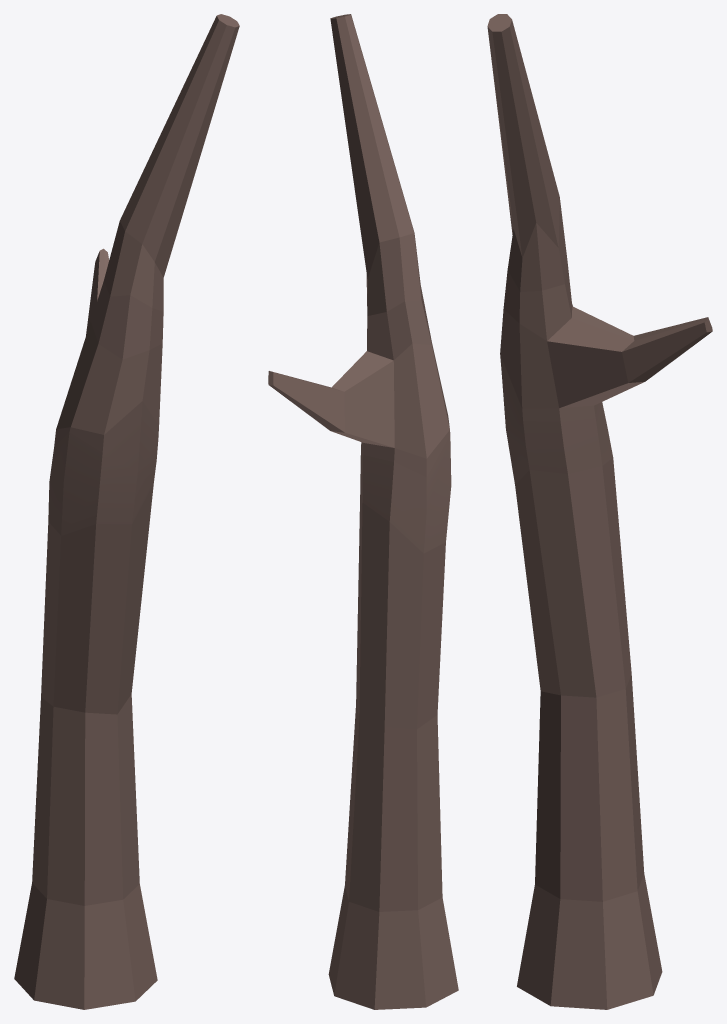
The model's file is Boom_dood2.fbx.
The picture shows the model from 3 angles, left to right: view 1: azimuth 30°, elevation 25°; view 2: azimuth 150°, elevation 25°; view 3: azimuth 270°, elevation 25°; orthographic projection. The views are drawn at different scales.
Visible parts, largest first — view 1: Mesh1; view 2: Mesh1; view 3: Mesh1.
Part boxes in pixels (x1=…): Mesh1: x1=14, y1=14, x2=239, y2=1009; Mesh1: x1=268, y1=14, x2=458, y2=1009; Mesh1: x1=487, y1=14, x2=712, y2=1009.
Bounding box in the file's own units: 0.00653 × 0.0358 × 0.00721.
